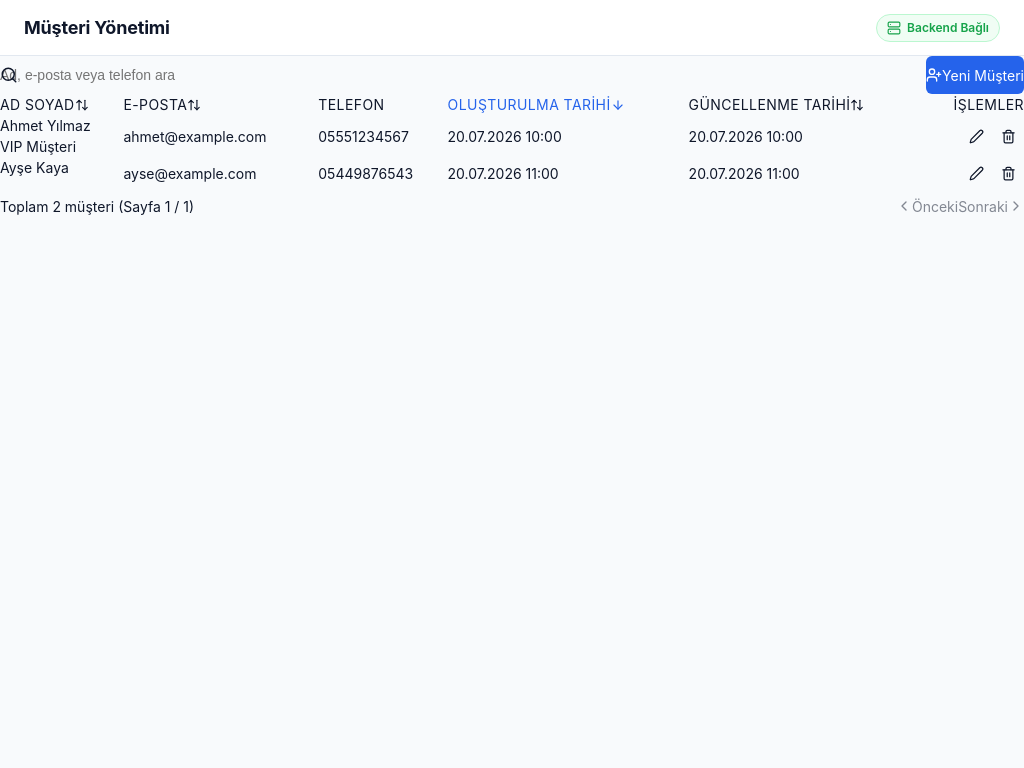
CustomersPage Integration › opens edit dialog with prefilled values and updates customer
Expected: the text "Ahmet Yılmaz" is shown, [0,117,91,134]
Click the button named "Ahmet Yılmaz müşterisini düzenle": (976, 136) [960,120,992,152]
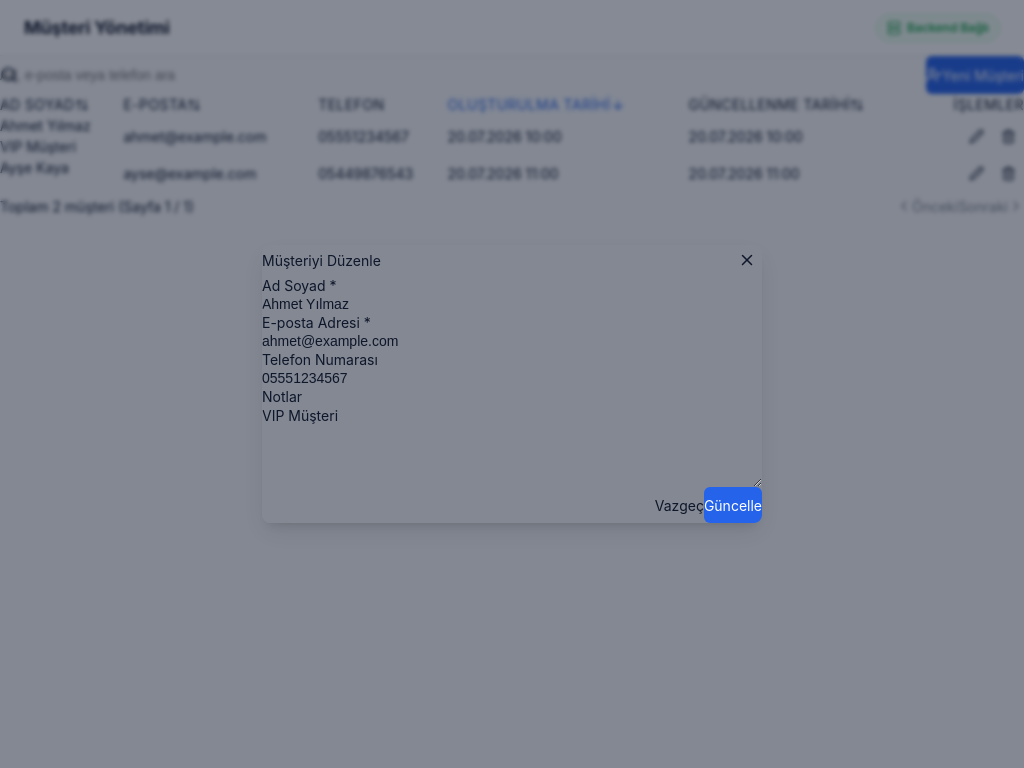
Expected: the dialog "Müşteriyi Düzenle" is shown, [262,245,762,523]
Expected: the field named "fullName" holds "Ahmet Yılmaz"
Replace the text in the field named "fullName" with "Ahmet Yılmaz Güncel": (512, 304) [262,296,762,312]
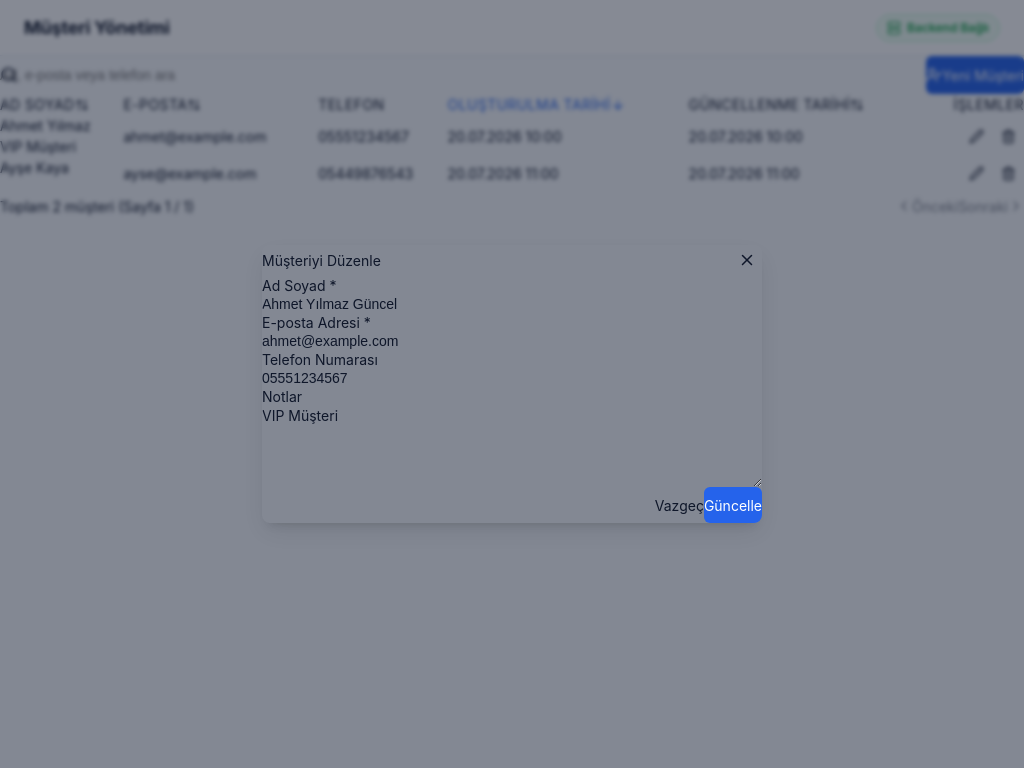
Click the button "Güncelle": (733, 505) [704,487,762,523]
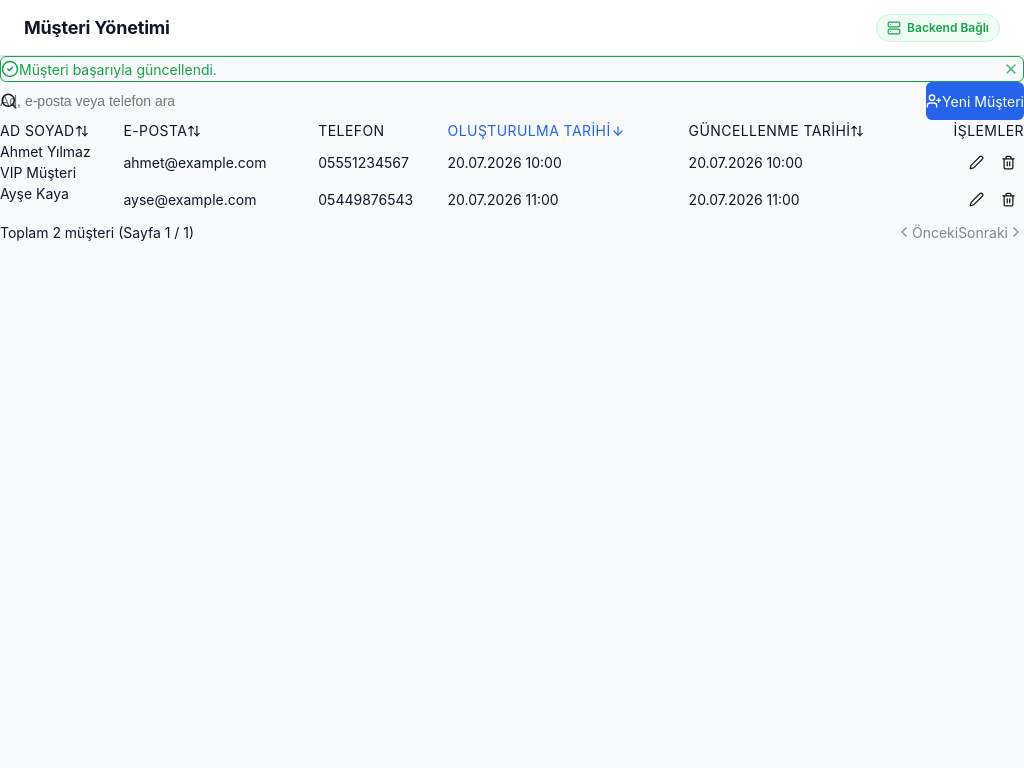
Expected: the text "Müşteri başarıyla güncellendi." is shown, [19,60,217,78]
